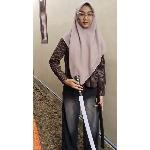Pedang: (72, 71, 97, 149)
